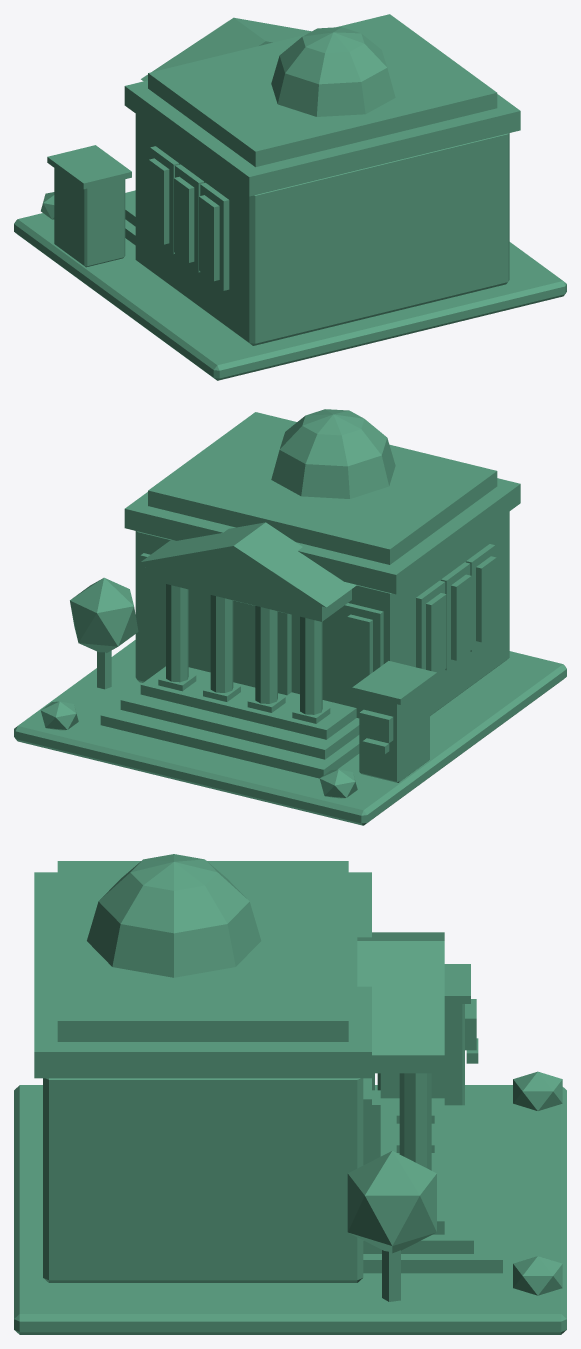
3 views of the same model, one above another, from view 1: azimuth 30°, elevation 25°; view 2: azimuth 150°, elevation 25°; view 3: azimuth 270°, elevation 25° (orthographic). The views are drawn at different scales.
Parts seen in each view (by area): view 1: corpo; view 2: corpo; view 3: corpo.
Part boxes in pixels (box(x1,y1,x2,y2)): corpo: box(14, 14, 566, 380); corpo: box(14, 409, 566, 825); corpo: box(14, 854, 566, 1334).
Size of the model in its own units: 1.91 by 1.36 by 1.9.
